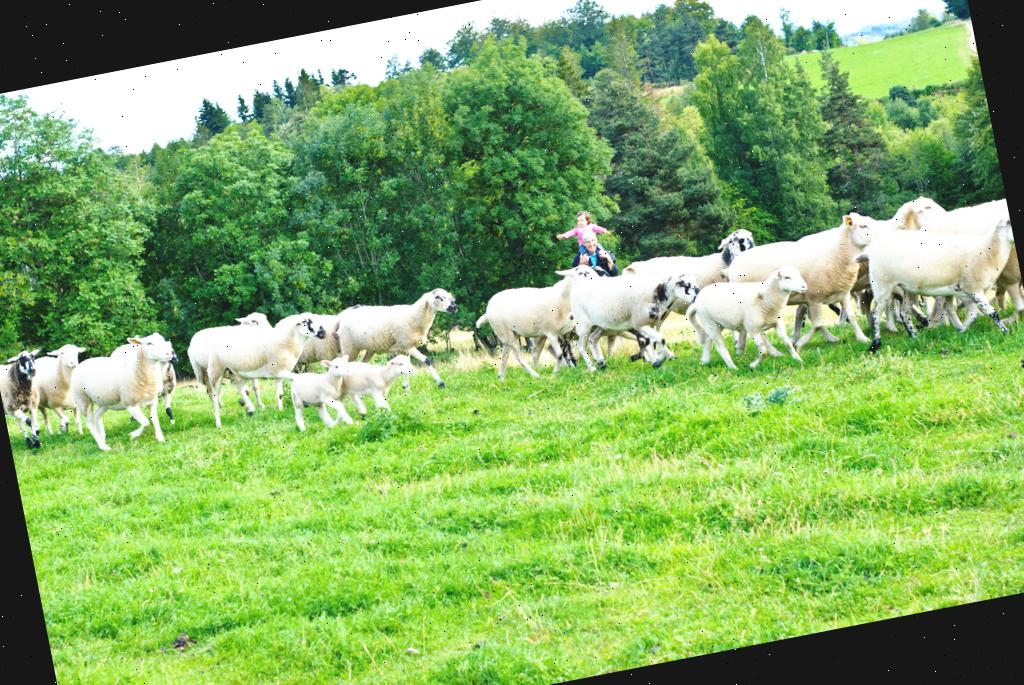Sheep: (718, 203, 912, 368), (790, 189, 970, 350), (848, 204, 1024, 362), (176, 298, 341, 427), (616, 225, 774, 355), (561, 256, 714, 385), (461, 258, 612, 388), (676, 254, 824, 386), (331, 284, 473, 407), (63, 328, 186, 465), (914, 193, 1024, 332), (178, 290, 288, 424), (514, 258, 630, 382), (270, 295, 378, 397), (8, 337, 101, 444), (102, 324, 190, 437), (272, 350, 362, 442), (328, 341, 424, 421), (0, 339, 59, 468)
